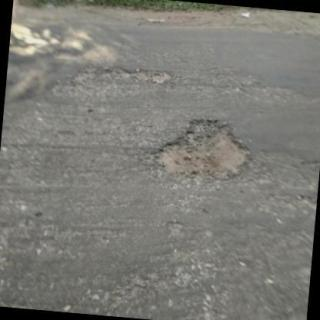pothole: (158, 120, 252, 185)
